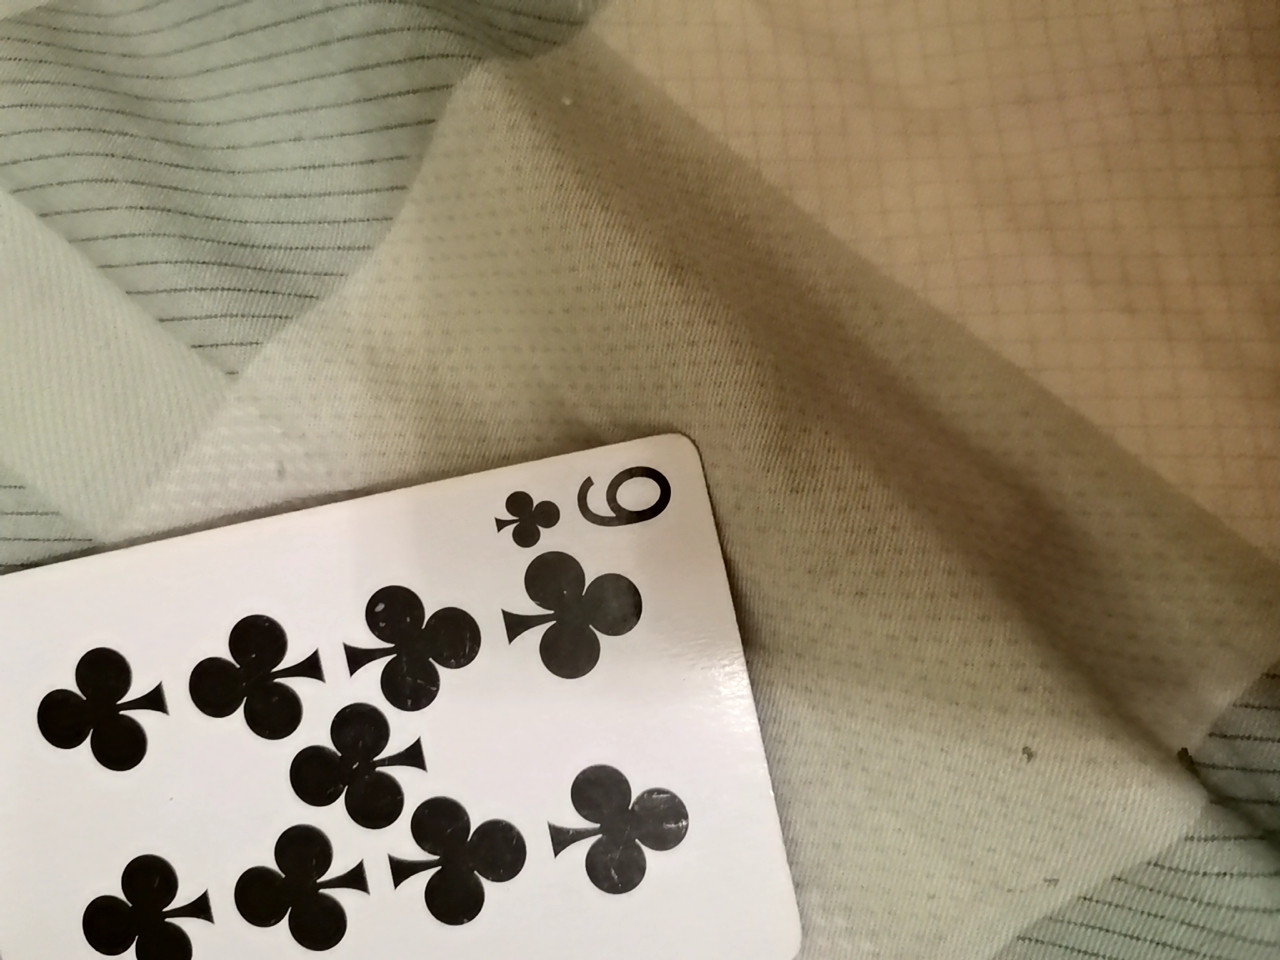mh 9: (8, 437, 843, 957)
